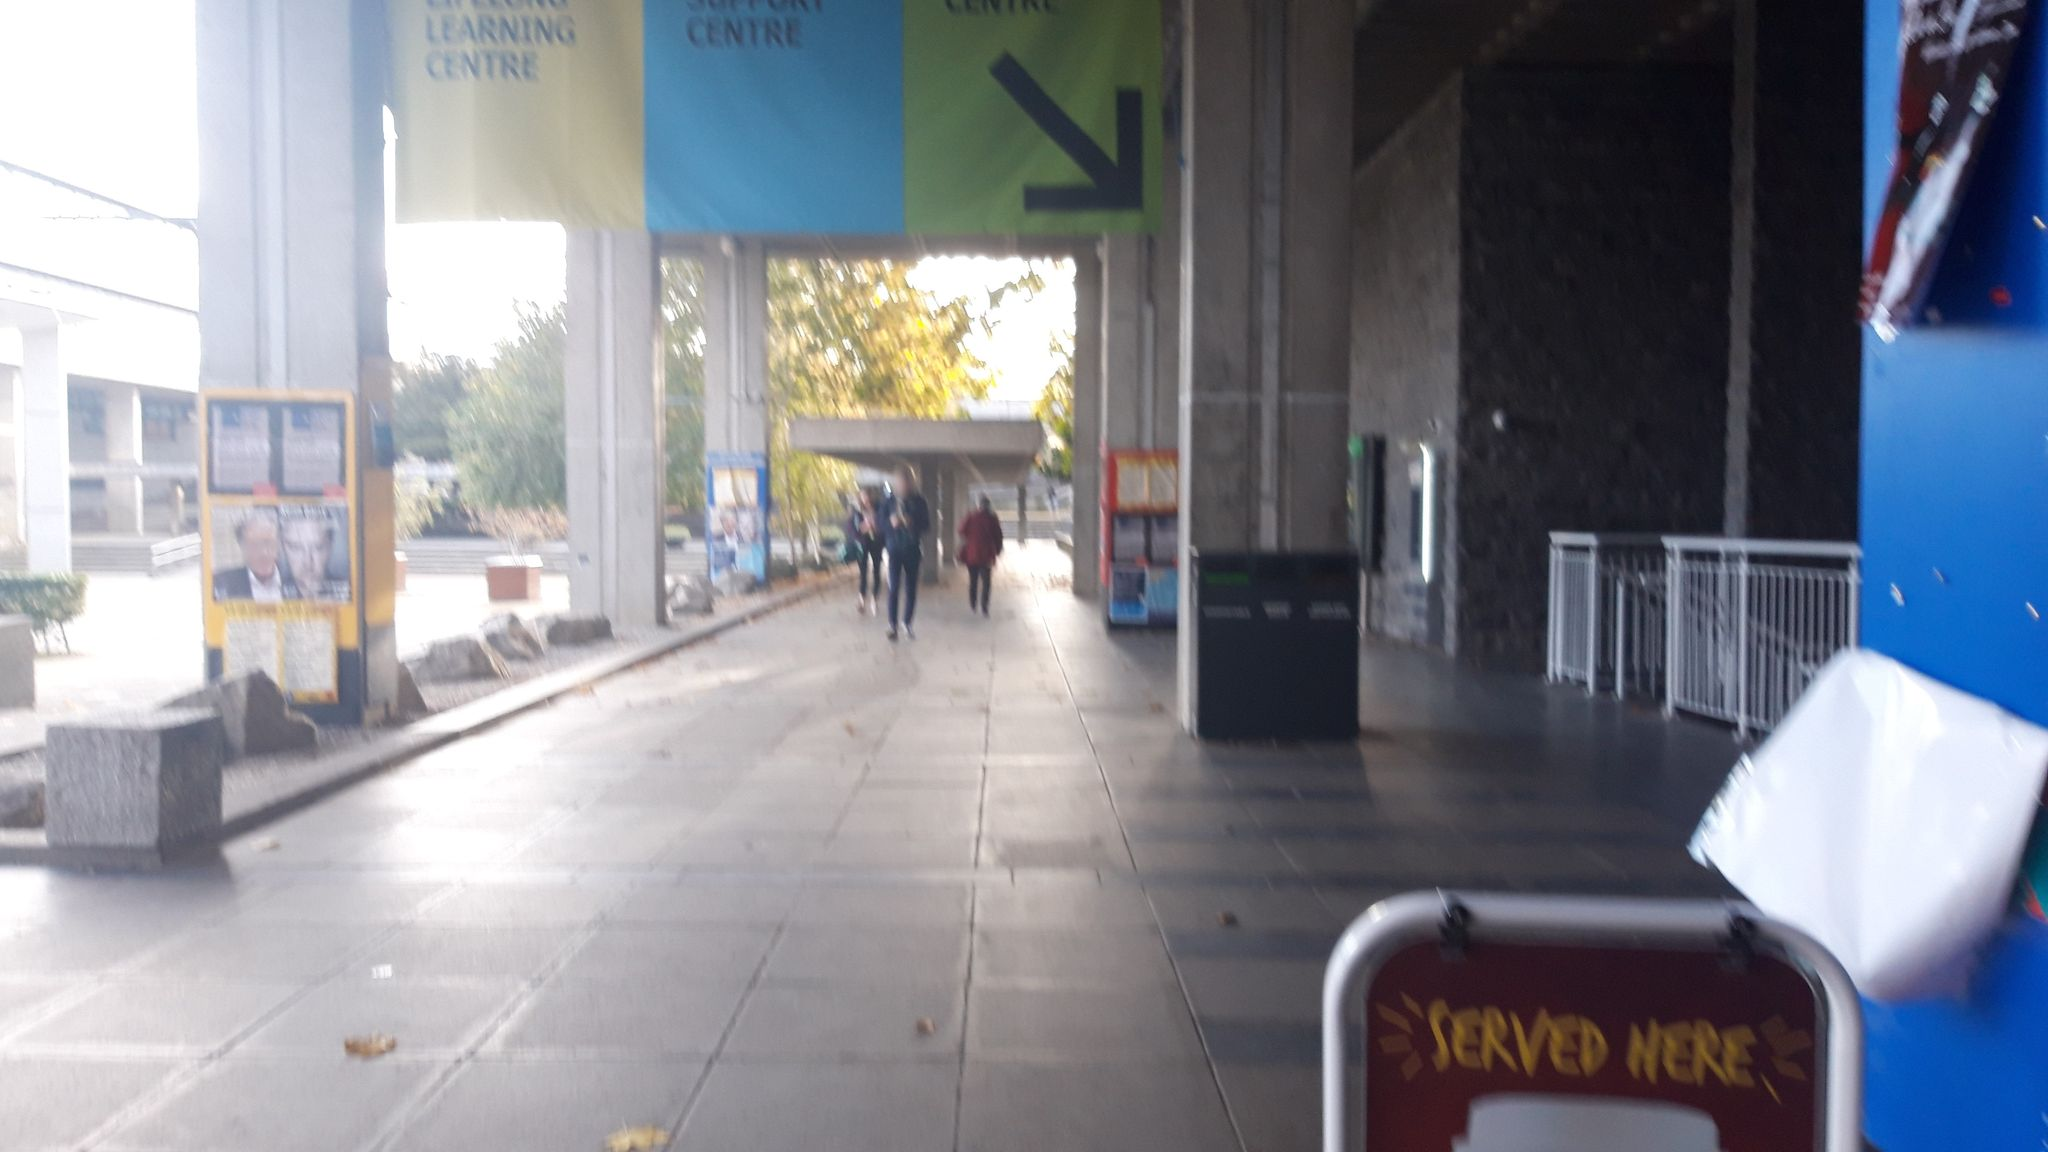vinyl banner: (387, 1, 1170, 243)
